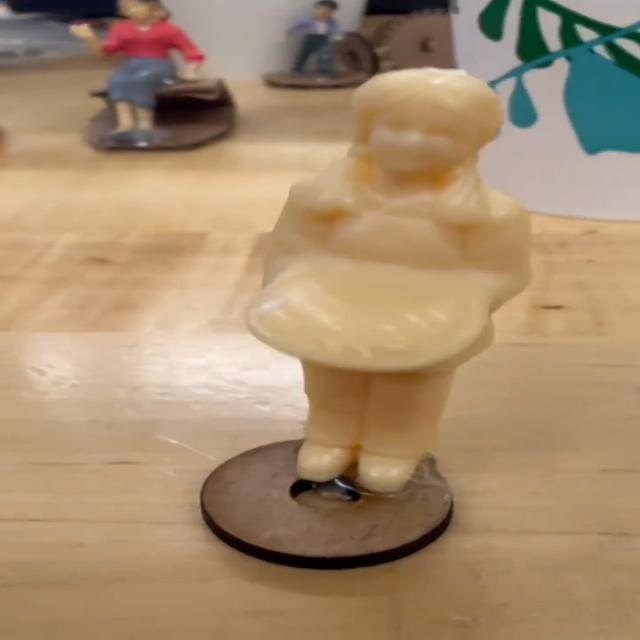Unauthorized: (258, 66, 487, 531)
